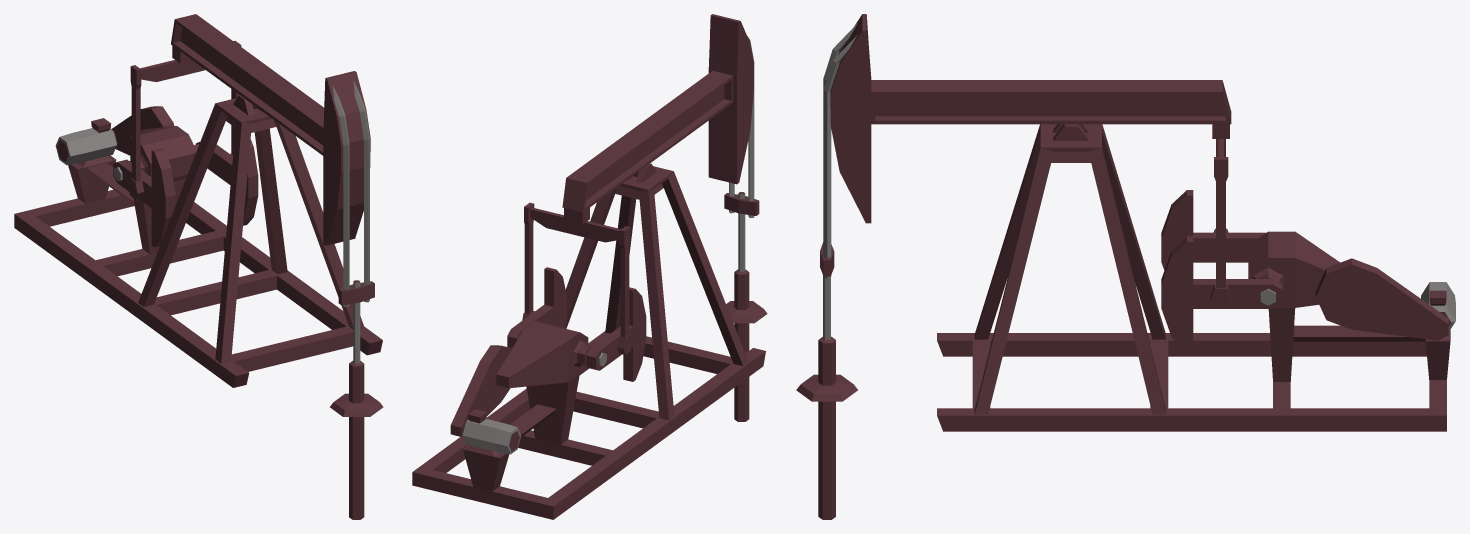
The model's file is buildings-pumpjack.glb.
3 renders of one model, left to right at view 1: azimuth 30°, elevation 25°; view 2: azimuth 150°, elevation 25°; view 3: azimuth 270°, elevation 25°, orthographic. The views are drawn at different scales.
Parts seen in each view (by area): view 1: pumpjack; view 2: pumpjack; view 3: pumpjack.
Boxes of the visible parts, x1,y1,x2,y2 form: pumpjack: (14,14,383,519); pumpjack: (412,14,767,519); pumpjack: (796,14,1455,519).
Bounding box in the file's own units: 2.2 × 6.14 × 7.42.
